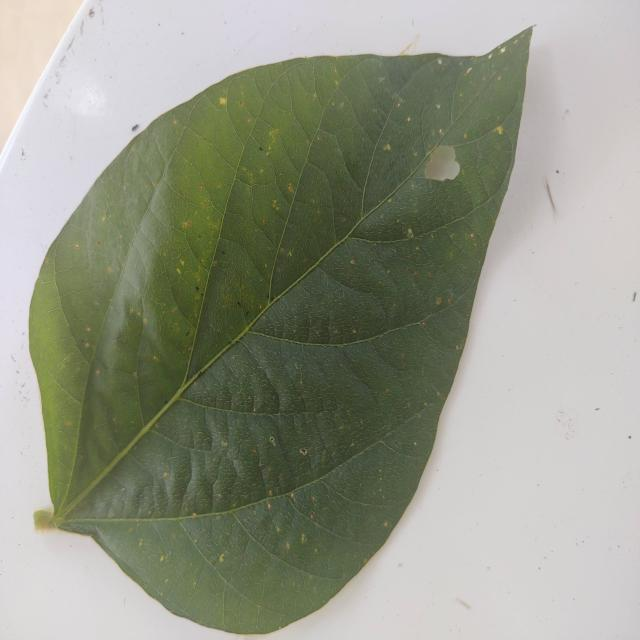Soybean: (16, 29, 534, 639)
downey_mildew: (28, 249, 98, 497), (238, 465, 367, 586), (140, 243, 204, 406), (182, 250, 262, 379), (393, 214, 481, 328), (336, 319, 439, 409), (298, 432, 403, 520), (413, 141, 500, 246), (186, 344, 309, 417), (236, 151, 326, 246), (49, 219, 115, 345), (104, 418, 187, 515), (275, 399, 344, 489), (211, 75, 275, 170), (324, 61, 382, 162), (165, 140, 227, 223), (176, 517, 242, 594), (164, 226, 214, 327), (120, 128, 168, 227), (223, 499, 286, 570), (353, 193, 436, 244), (469, 119, 519, 203), (318, 248, 393, 303), (247, 114, 299, 191), (103, 364, 143, 456), (469, 83, 522, 136), (115, 302, 146, 354), (211, 455, 238, 510)
